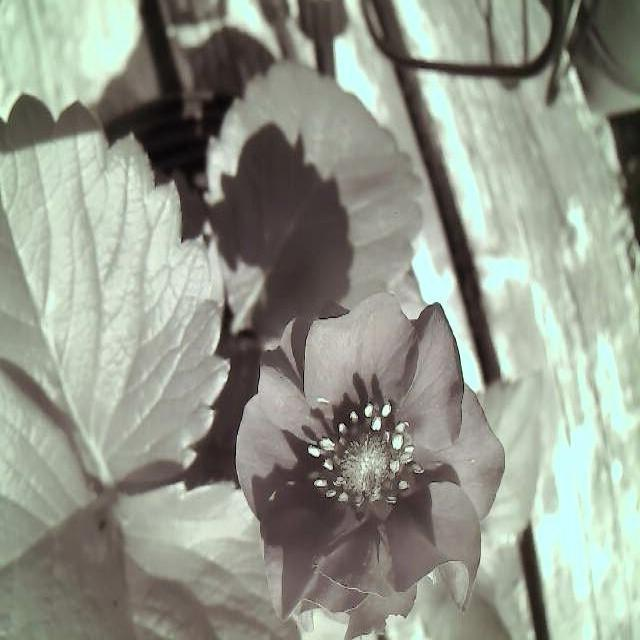flower: (226, 284, 524, 638)
